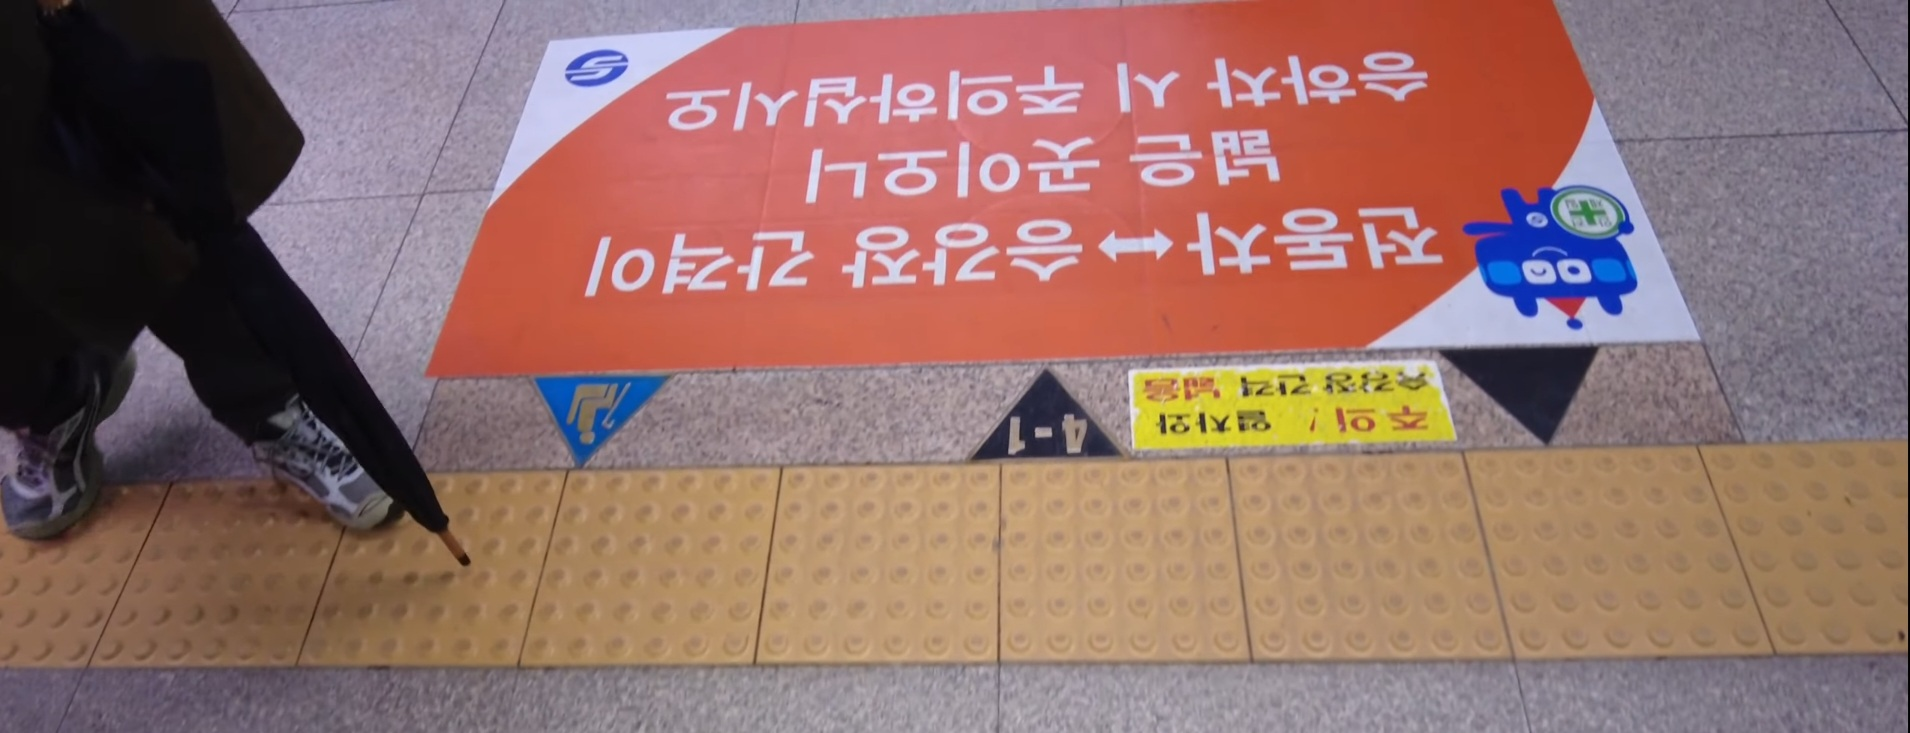warningBlock: (1469, 447, 1772, 664), (992, 454, 1266, 662), (554, 479, 784, 686), (1238, 460, 1493, 643), (784, 464, 1010, 651), (345, 479, 568, 664), (138, 491, 374, 662), (1714, 441, 1910, 636), (4, 458, 143, 647)
